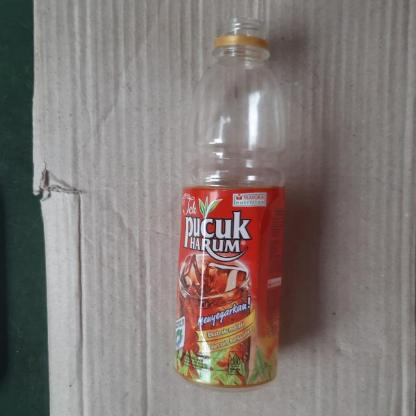Plastic Bottle: (174, 20, 286, 392)
